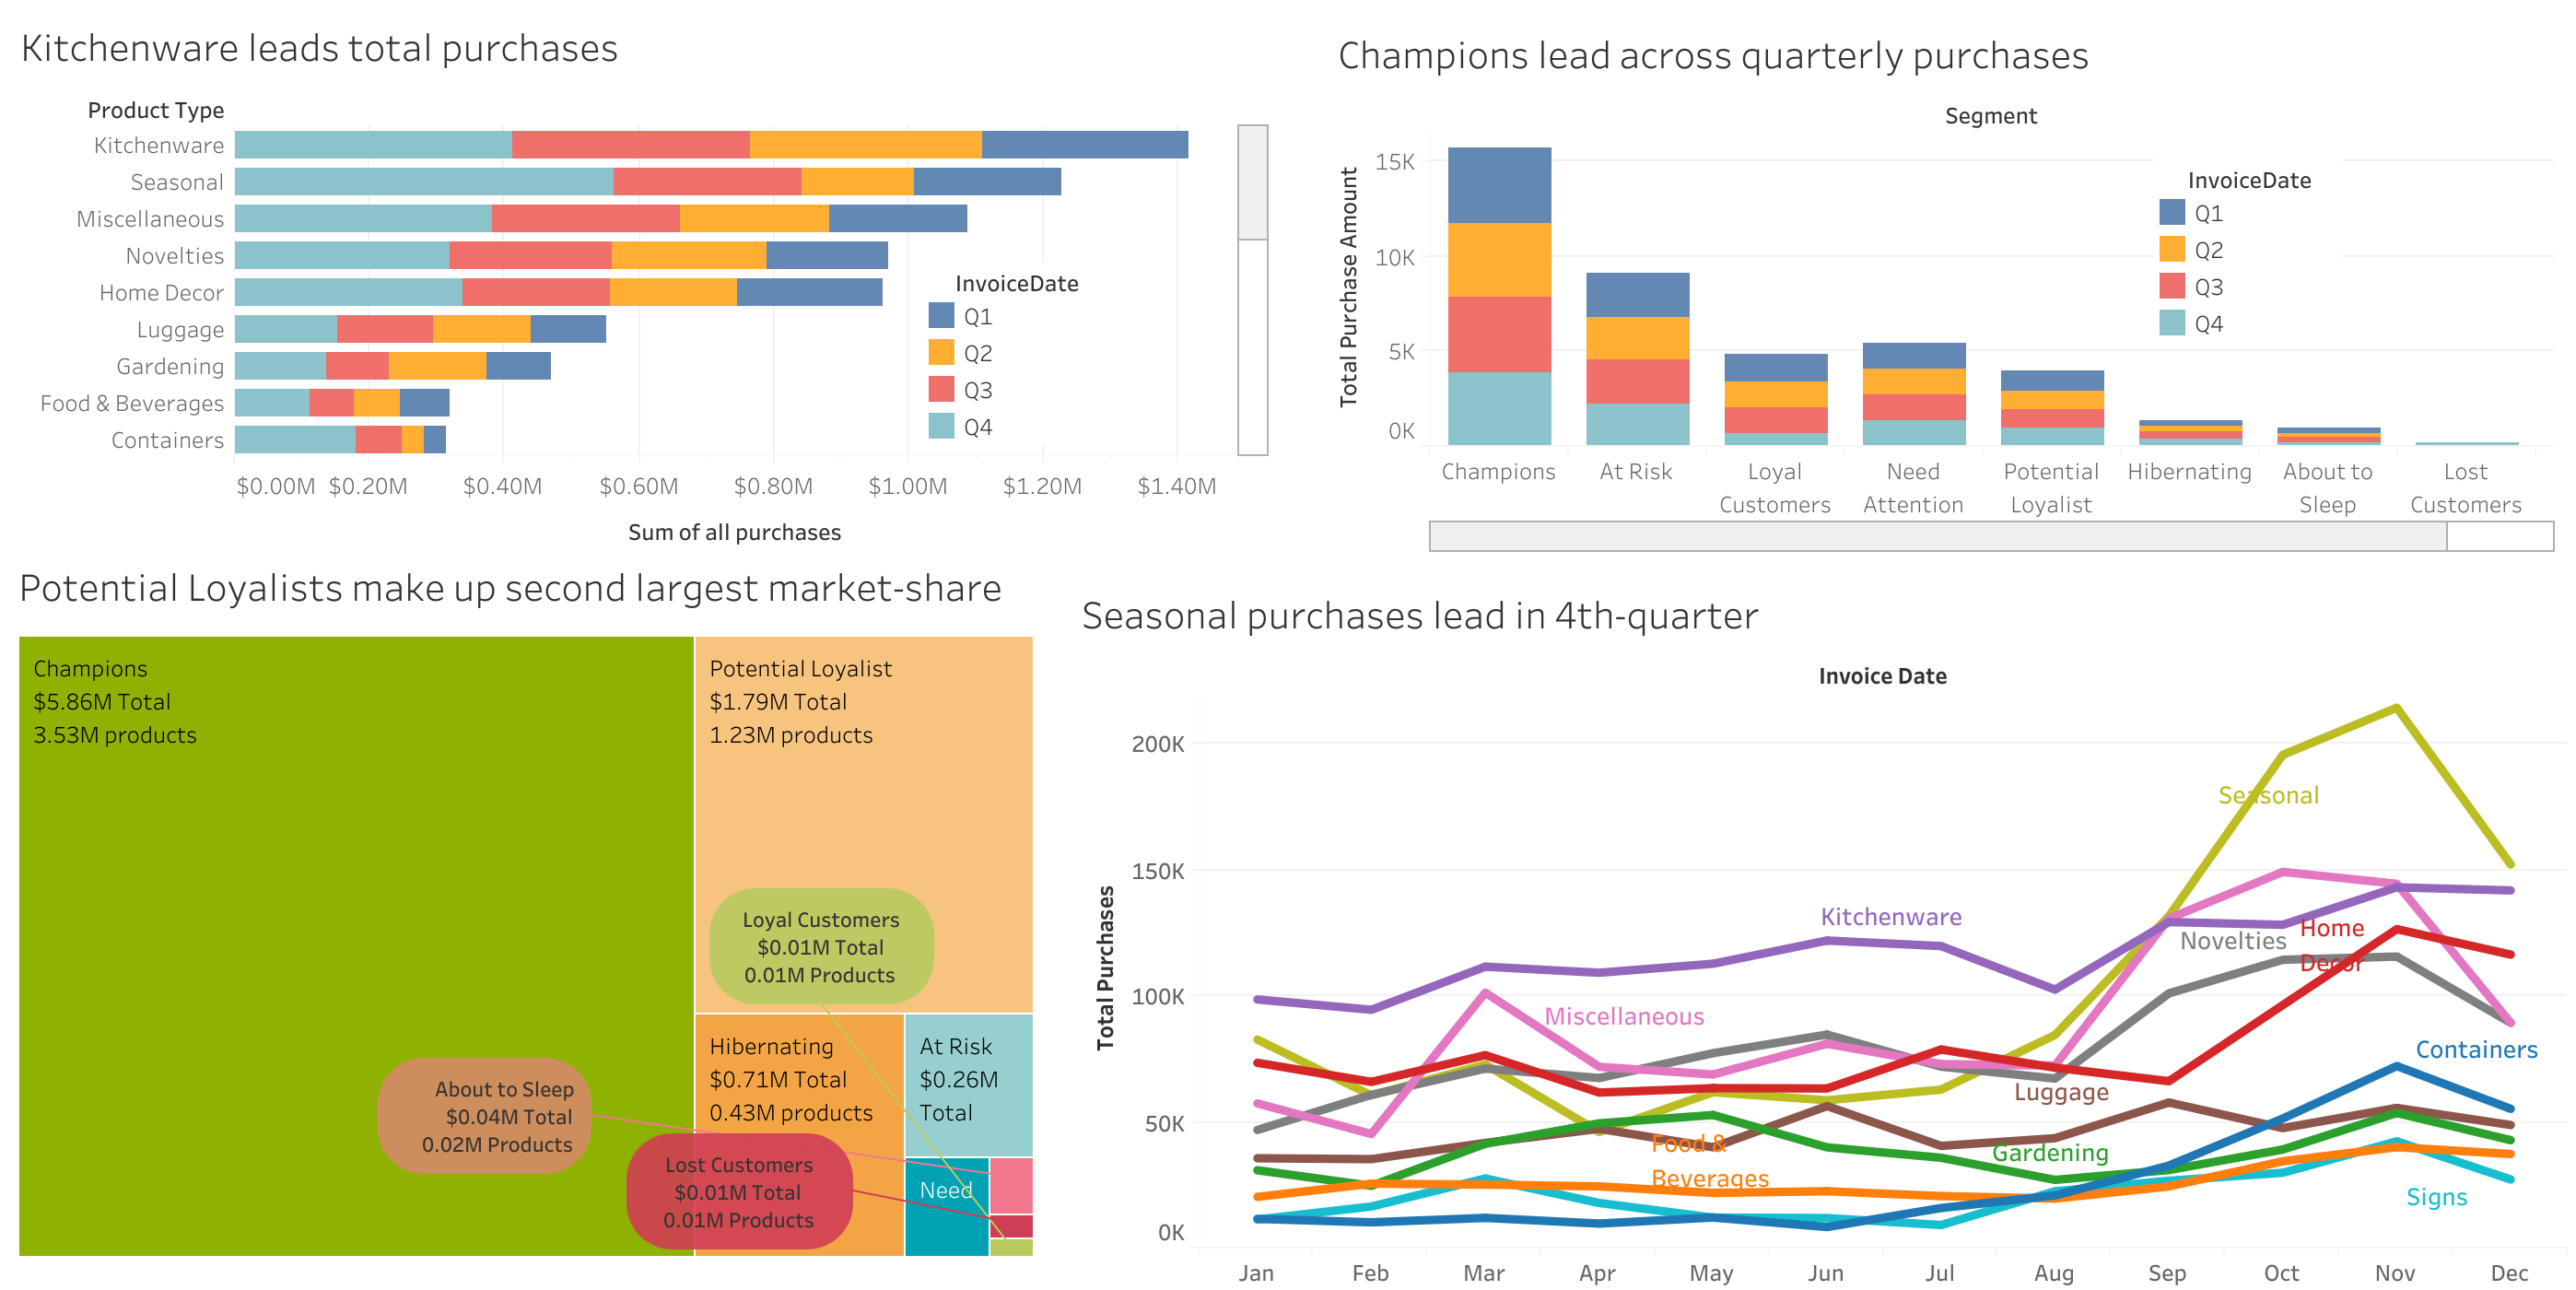

What the dashboard file says about the page in this screenshot:
{"tool":"tableau","page":{"name":"sheet-1-dashboard-2009-2010","canvas":[1000,1000],"units":"permille","ordinal":0},"visuals":[{"type":"worksheet","title":"s1-Top 10 product purchases per month","mark":"Line","rows":["TotalPrice"],"cols":["InvoiceDate"],"box":[498.3,4.9,484.7,574.6]},{"type":"worksheet","title":"s1-Total Purchases by product by quarter","mark":"Automatic","rows":["Product Type"],"cols":["TotalPrice"],"box":[4.8,7.3,487.4,426.7]},{"type":"legend","title":"s1-Total Purchases by product by quarter","param":"[federated.0kbcoit1qrj26a14op06j1ra9u5n].[qr:InvoiceDate:ok]","box":[355.3,213.9,61.3,143]},{"type":"worksheet","title":"s1-Total purchases and units per customer segment","mark":"Automatic","box":[4.1,425.4,500.3,558.7]},{"type":"worksheet","title":"s1-Median monetary by customer segment by quarter","mark":"Automatic","rows":["Monetary"],"cols":["segment"],"box":[473.8,581.9,522.1,394.9]},{"type":"legend","title":"s1-Median monetary by customer segment by quarter","param":"[federated.0kbcoit1qrj26a14op06j1ra9u5n].[qr:InvoiceDate:ok]","box":[729.8,629.6,49.7,125.9]}]}

Visuals, with their boxes on the dashboard's canvas, which has no fixed pixel size, in thousandths of its width and height (x1, y1, x2, y2). These are canvas units, not pixel positions in the 2576x1290 screenshot, which may show the page scaled, cropped or inside an application window:
"s1-Top 10 product purchases per month" worksheet (Line marks): bbox(498, 5, 983, 580)
"s1-Total Purchases by product by quarter" worksheet: bbox(5, 7, 492, 434)
"s1-Total Purchases by product by quarter" legend: bbox(355, 214, 417, 357)
"s1-Total purchases and units per customer segment" worksheet: bbox(4, 425, 504, 984)
"s1-Median monetary by customer segment by quarter" worksheet: bbox(474, 582, 996, 977)
"s1-Median monetary by customer segment by quarter" legend: bbox(730, 630, 780, 756)
